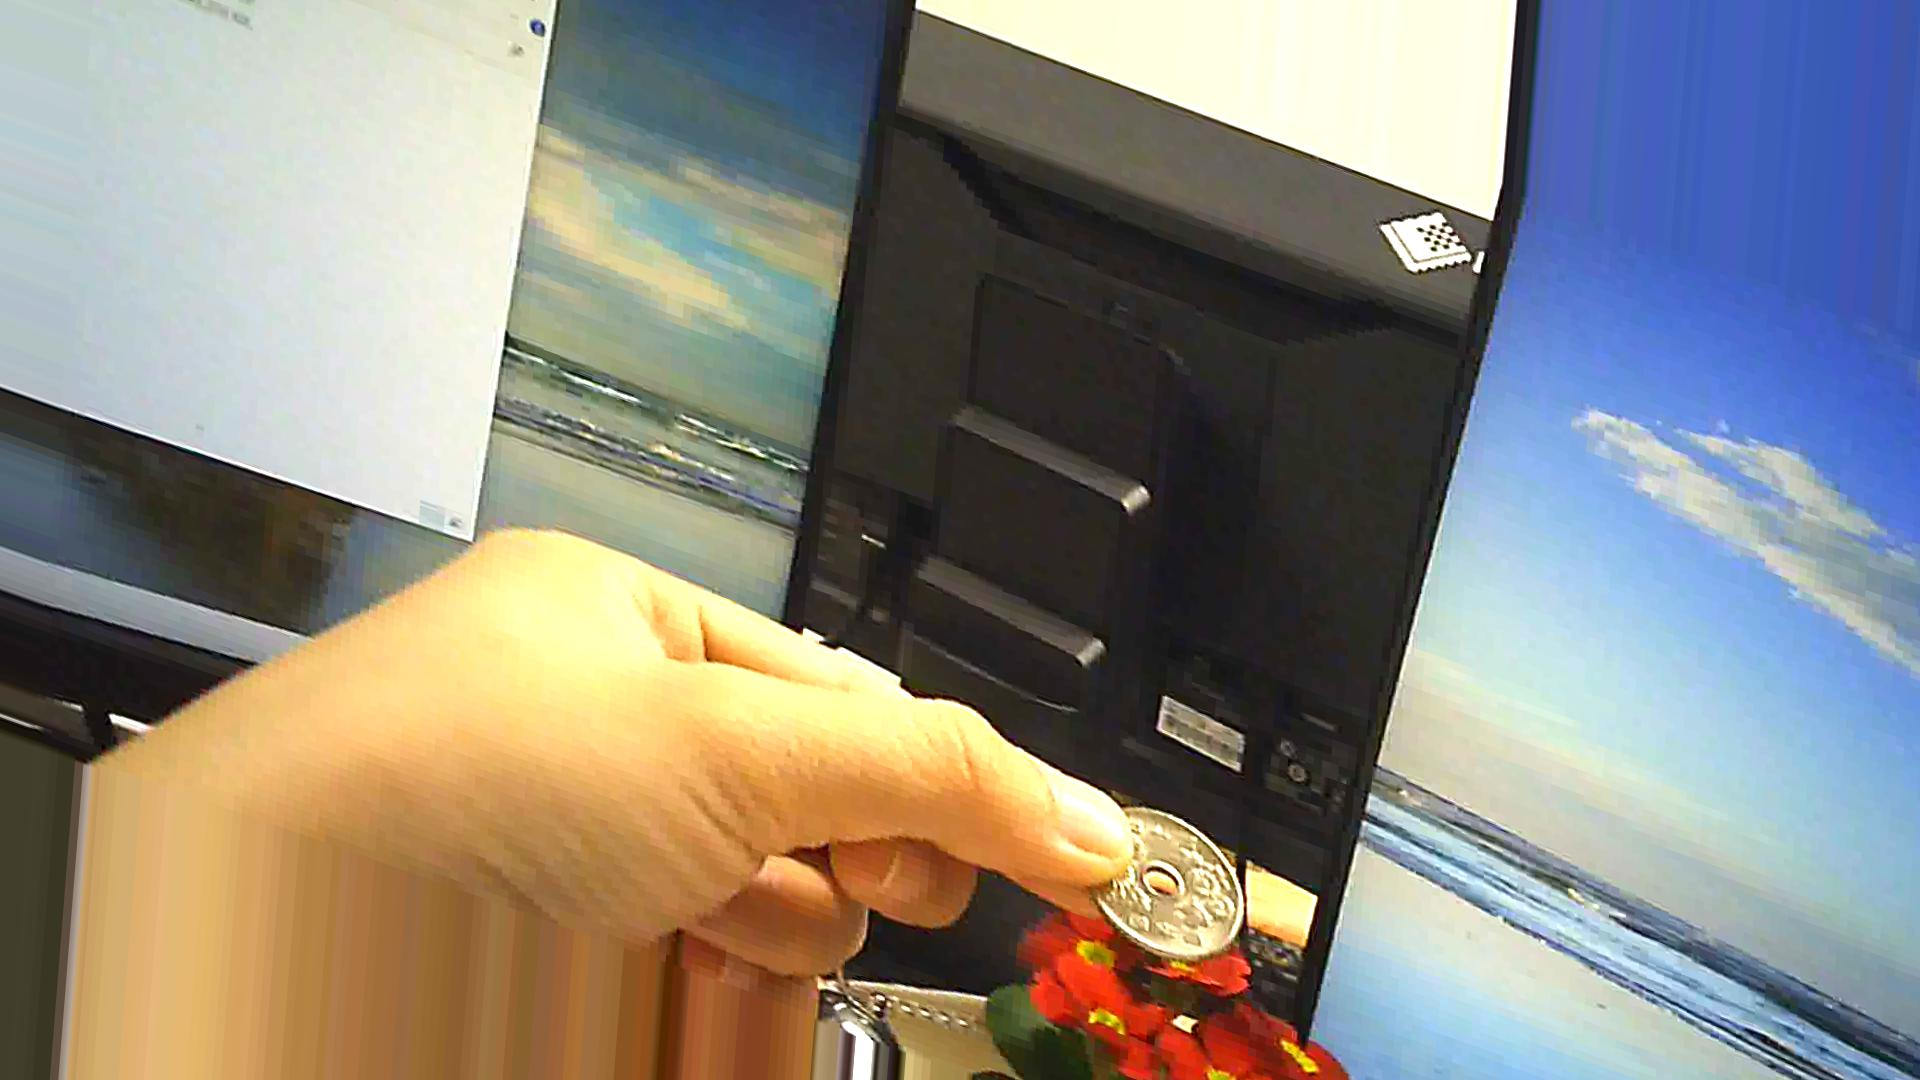50 Yen: (1080, 790, 1261, 964)
